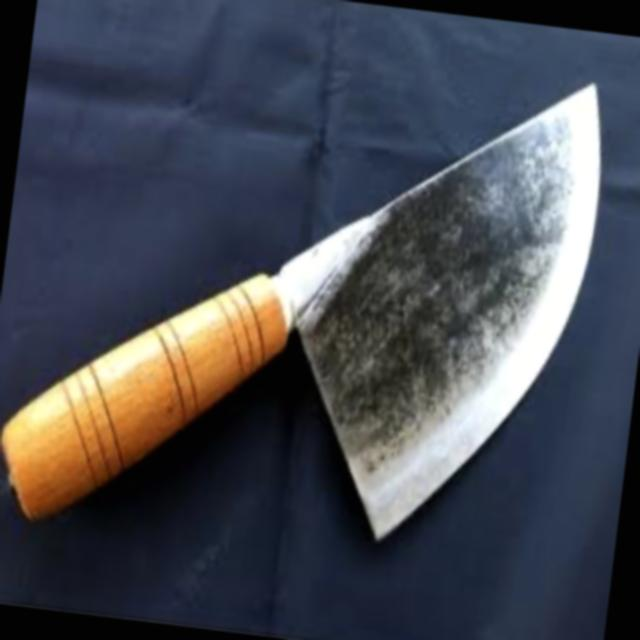knife: (0, 74, 613, 596)
